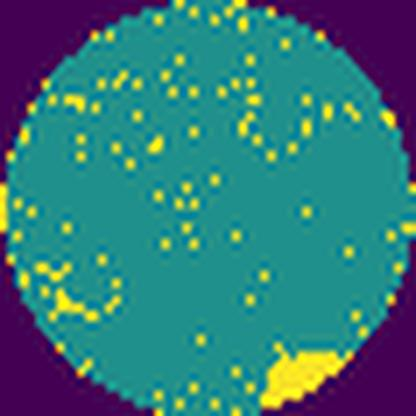Edge-Loc: (254, 337, 356, 416)
